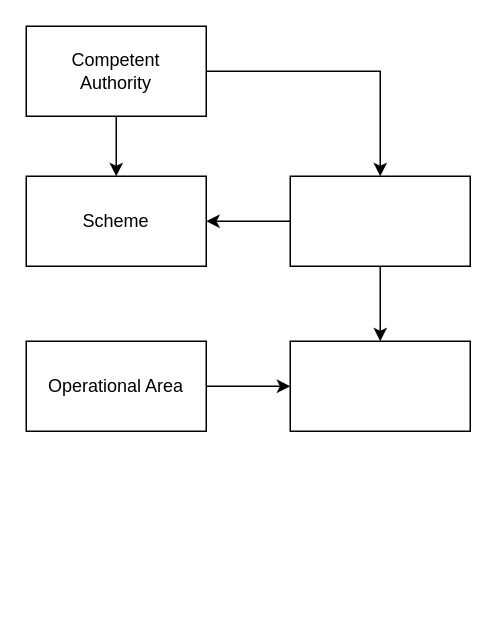
The diagram is 497 pixels wide and 635 high, and some of its shapes have lost their labels. Here are the shapes that lost their labels. From the top down, the centre of each, then its label:
At [379,220]: "Service Delivery partner".
At [379,385]: "Service Delivery Area".
